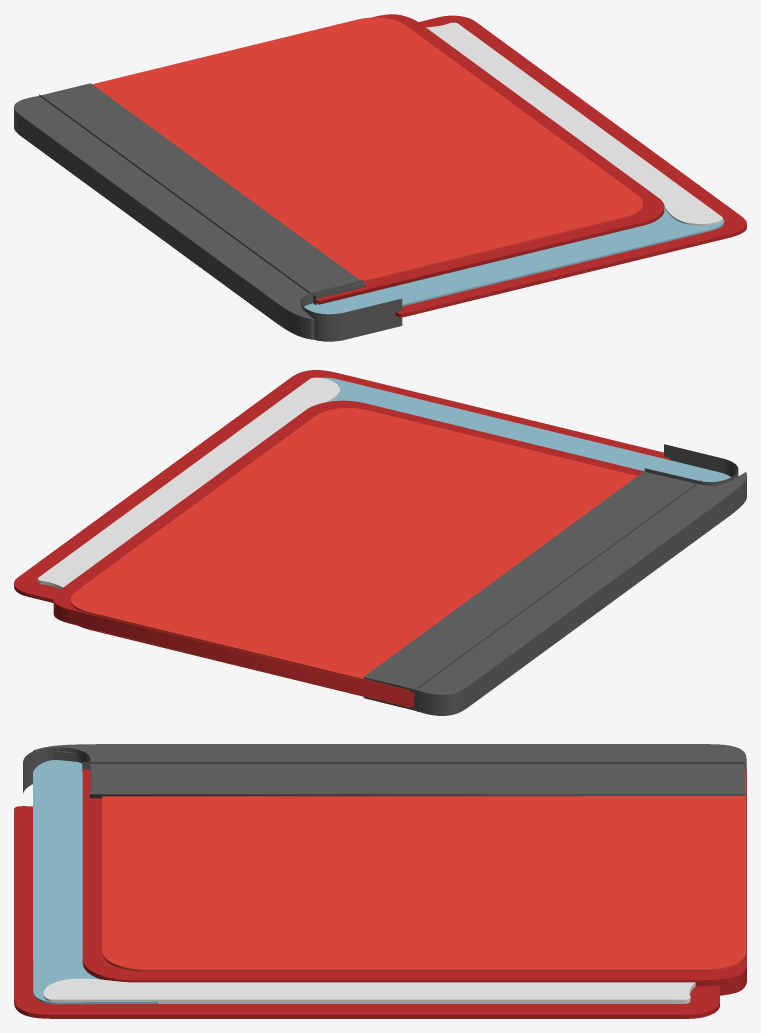
Rendered from emoji_u1f4d5.glb.
3 views of the same model, one above another, from view 1: azimuth 30°, elevation 25°; view 2: azimuth 150°, elevation 25°; view 3: azimuth 270°, elevation 25° (orthographic). The views are drawn at different scales.
Visible parts, largest first — view 1: emoji_u1f4d5; view 2: emoji_u1f4d5; view 3: emoji_u1f4d5.
Boxes of the visible parts, box(x1,y1,x2,y2) form: emoji_u1f4d5: box(14, 14, 746, 341); emoji_u1f4d5: box(14, 370, 746, 715); emoji_u1f4d5: box(14, 744, 746, 1018).
Bounding box in the file's own units: 0.0272 × 0.0016 × 0.0324.
